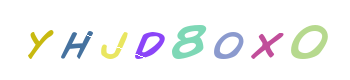0: (226, 0, 306, 80)
8: (149, 0, 229, 80)
D: (133, 0, 213, 80)
H: (36, 0, 116, 80)
J: (109, 0, 189, 80)
O: (165, 0, 245, 80)
X: (203, 0, 283, 80)
Y: (0, 0, 80, 80)
